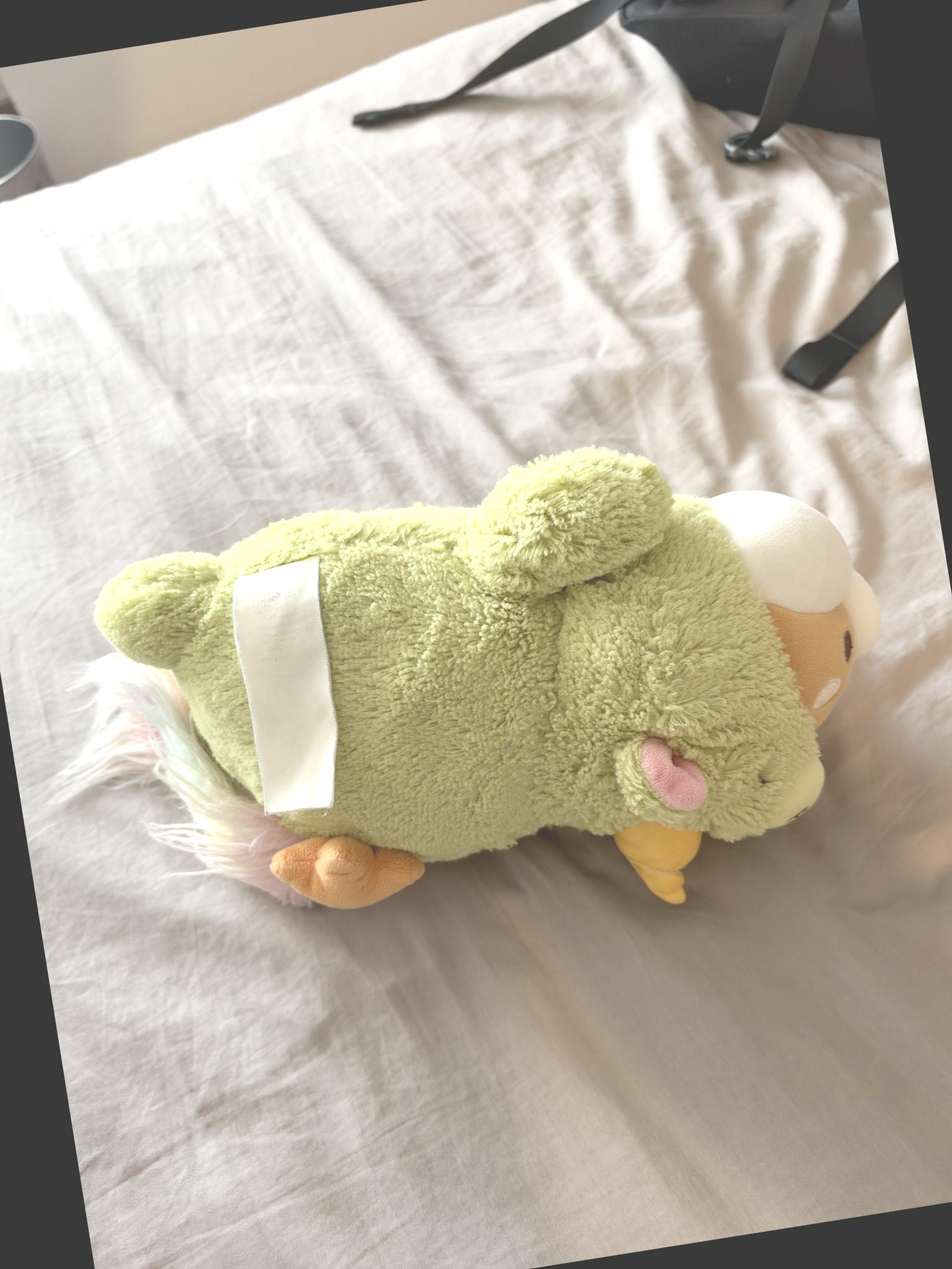peluche_martin: (8, 403, 925, 1001)
